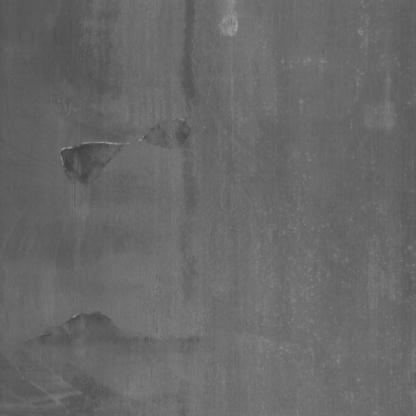rolled_pit: (58, 131, 124, 204), (141, 106, 203, 155)
